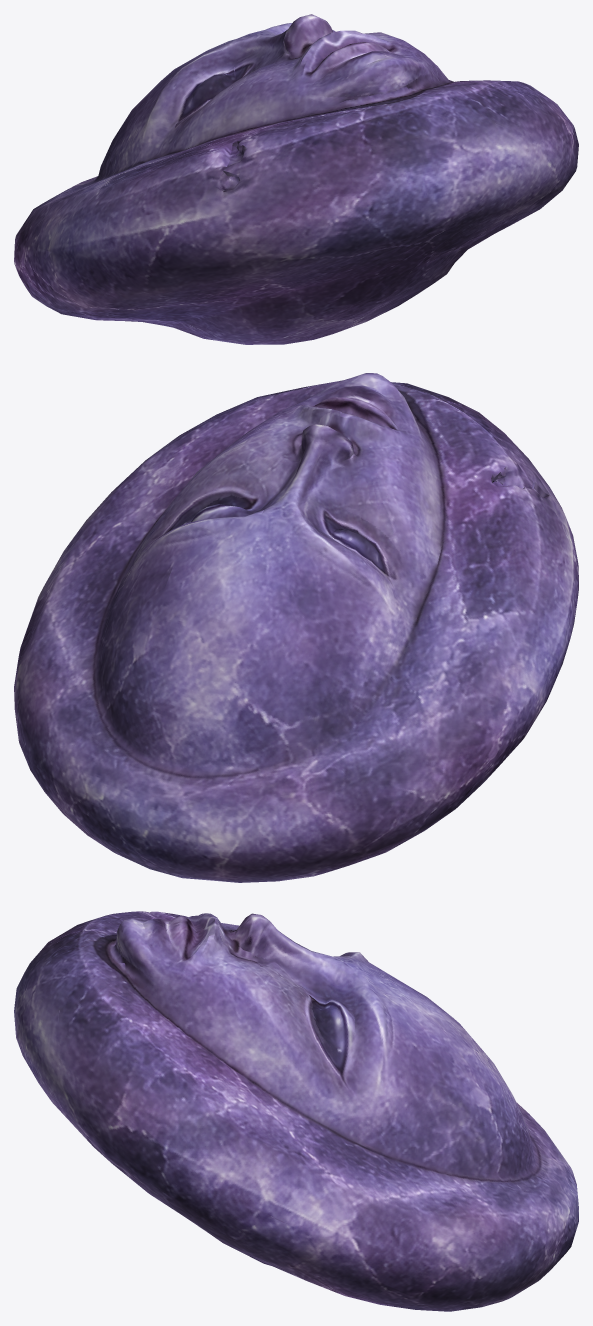
Rendered from item_memcryst.glb.
The picture shows the model from 3 angles, top to bottom: view 1: azimuth 30°, elevation 25°; view 2: azimuth 150°, elevation 25°; view 3: azimuth 270°, elevation 25°; orthographic projection.
Visible parts, largest first — view 1: props_memcryst; view 2: props_memcryst; view 3: props_memcryst.
Boxes of the visible parts, box(x1,y1,x2,y2) form: props_memcryst: box(14, 14, 578, 344); props_memcryst: box(14, 373, 578, 882); props_memcryst: box(14, 911, 578, 1311).
Size of the model in its own units: 0.9778 by 0.6837 by 0.9995.
1 material, 1 textured.
